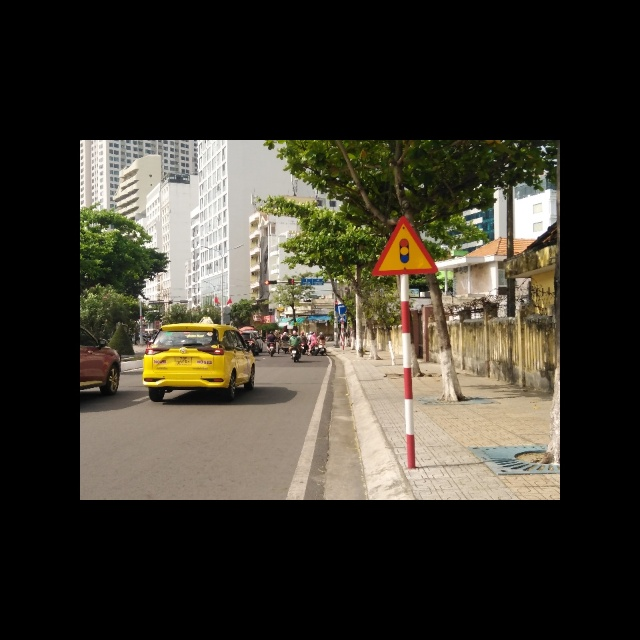Giao nhau có tín hiệu đèn: (370, 211, 439, 276)
